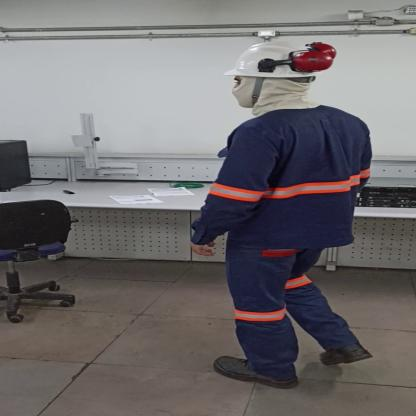Balaclava: (226, 77, 332, 116)
Capacete: (217, 41, 339, 80)
